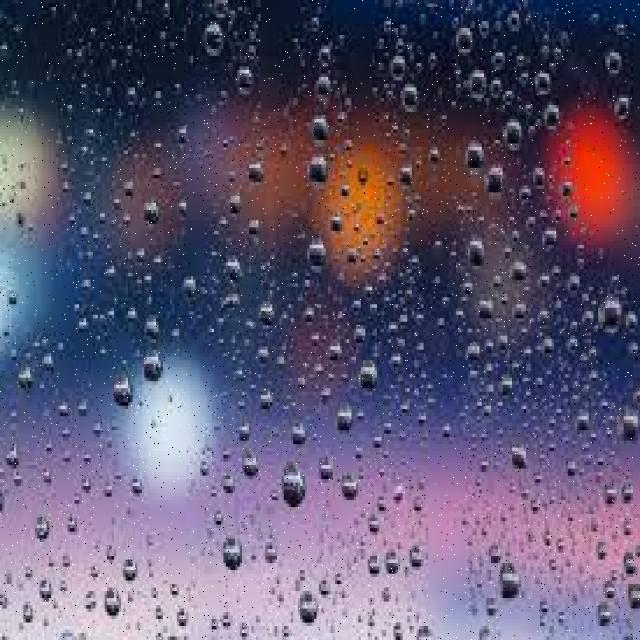raindrop: (276, 445, 316, 526), (489, 546, 532, 620), (192, 7, 237, 74), (299, 228, 338, 296), (135, 337, 179, 397), (456, 124, 498, 182), (300, 110, 342, 167), (299, 142, 338, 202), (101, 365, 142, 421), (138, 302, 169, 374), (458, 224, 494, 282), (214, 526, 254, 576), (607, 392, 640, 452), (496, 108, 530, 165), (354, 352, 386, 412), (228, 55, 262, 111), (506, 430, 540, 484), (594, 290, 627, 344), (392, 79, 423, 130), (292, 587, 318, 630), (382, 57, 413, 87)
